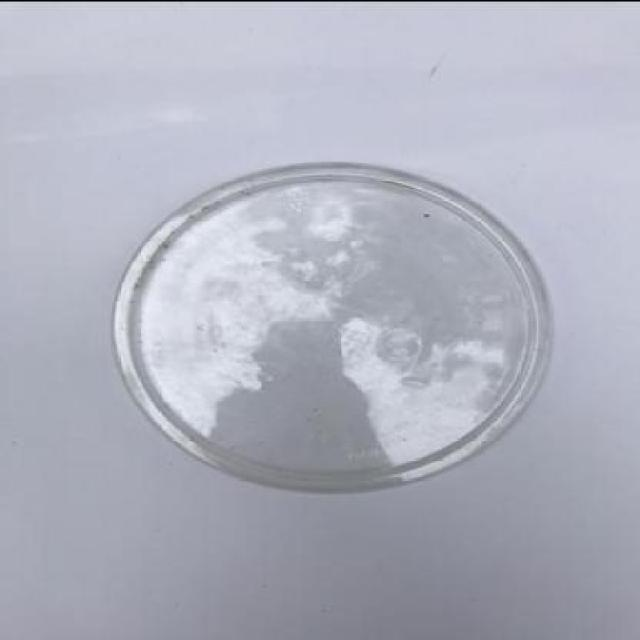PLASTIC: (113, 160, 555, 489)
